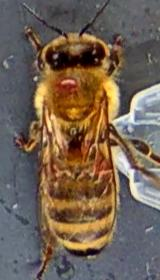varroa_mite: (50, 76, 88, 98)
